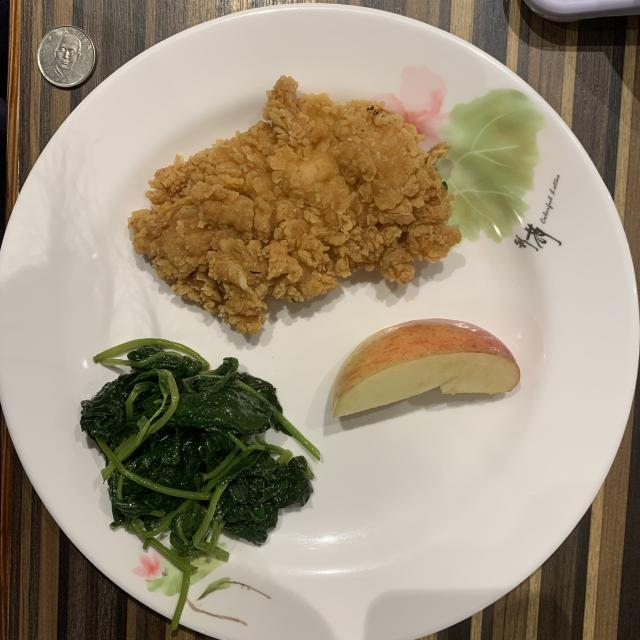apple -sliced-: (332, 319, 520, 418)
coin: (38, 26, 95, 88)
fried chicken cutlet: (129, 76, 461, 334)
sweet potato leaves: (80, 339, 319, 629)
